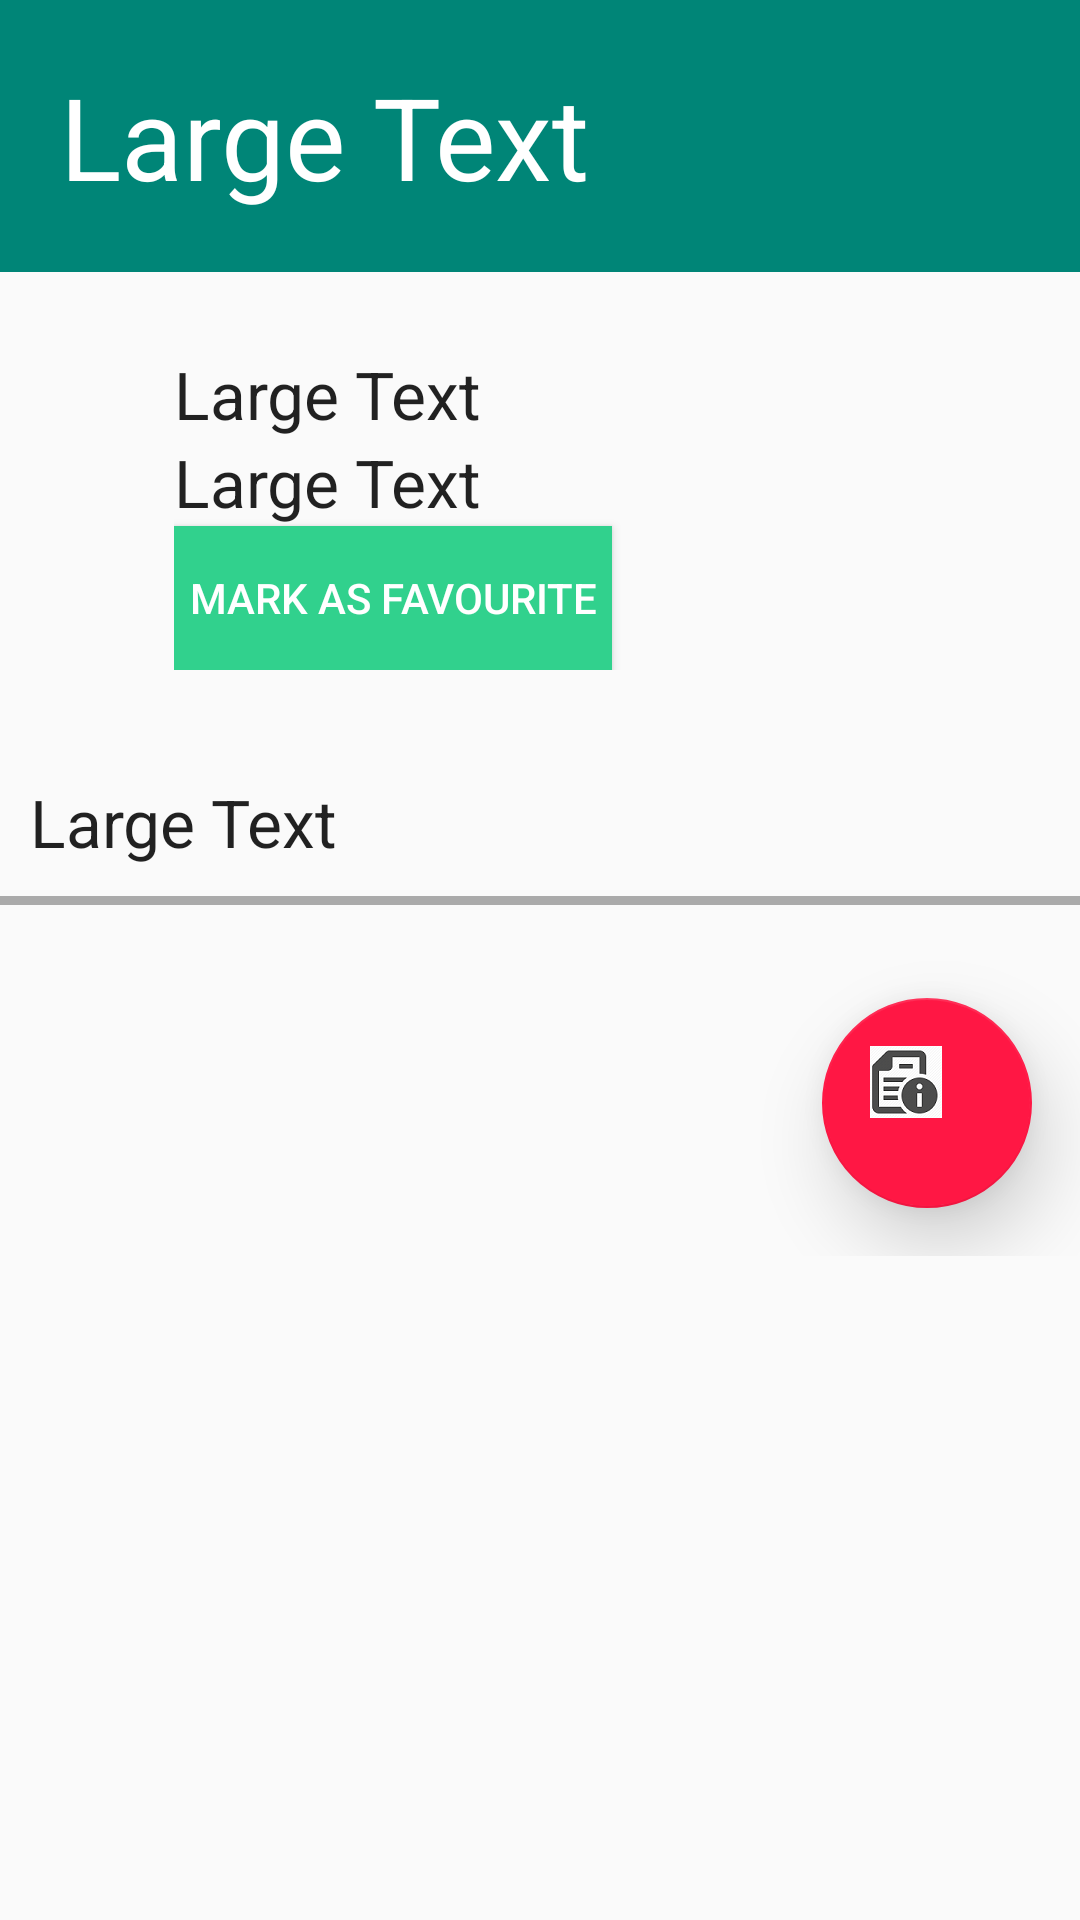

Named icons in this screenshot (1080×1920) and their bounding boxes, (x1, y1, x2, y2):
analysis review: (822, 998, 1032, 1208)
